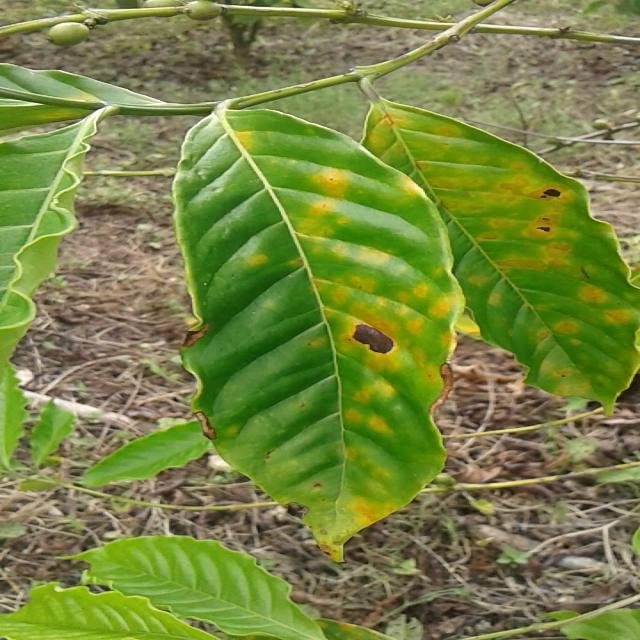Enfermedad-Roya: (172, 105, 464, 563)
